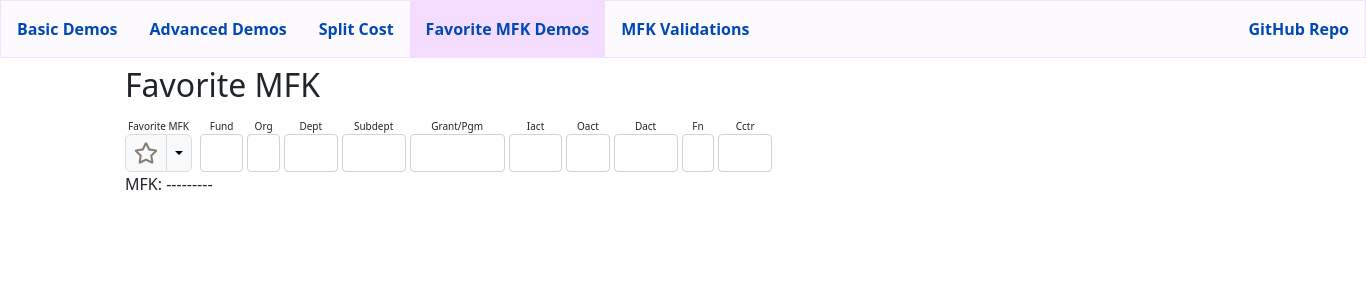
it: Favorite MFK Demos › should correctly select a favorite MFK from the dropdown list
What coordinates should you click on to do the following:
click the button with class "dropdown-toggle"
I would click on:
 (179, 153)
Its box is [166, 134, 192, 172].
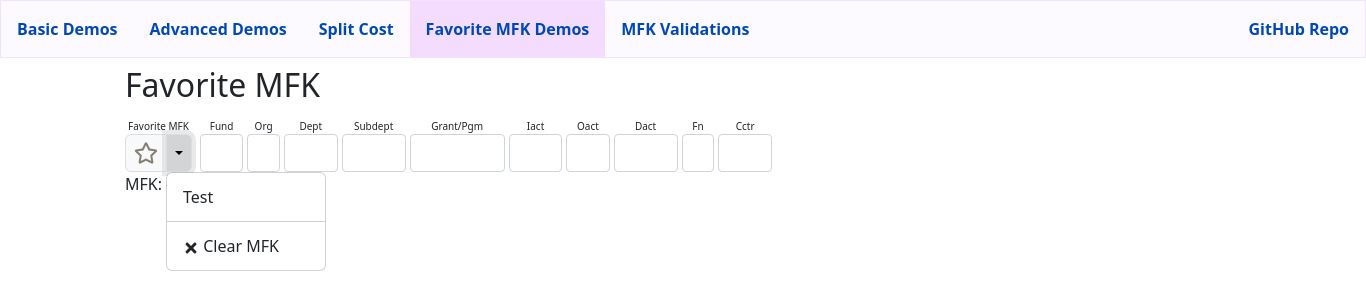
Expected: the list item "Test" is shown
What coordinates should you click on to do the following:
click the list item "Test"
I would click on:
 (198, 197)
Its box is [183, 186, 213, 208].
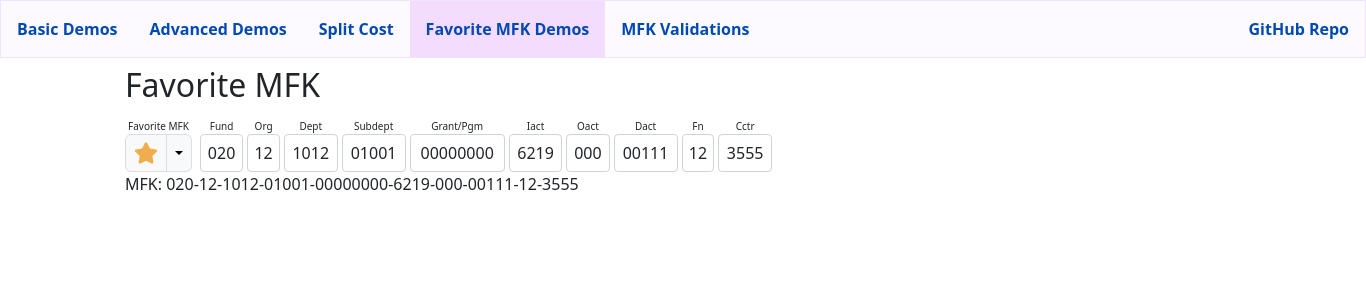
Expected: the element showing "020-12-1012-01001-00000000-6219-000-00111-12-3555" is shown, [166, 173, 579, 195]
Expected: the field labelled "Iact" holds "6219", [509, 134, 563, 172]
Expected: the field labelled "Cctr" holds "3555", [718, 134, 772, 172]
What coordinates should you click on to do the following:
click the button with class "dropdown-toggle"
I would click on:
 (179, 153)
Its box is [166, 134, 192, 172].
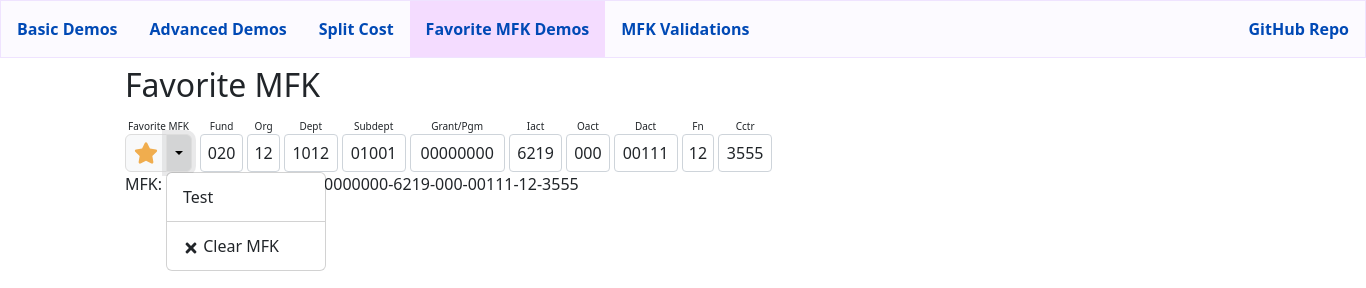
What coordinates should you click on to do the following:
click the list item "Clear MFK"
I would click on:
 (231, 246)
Its box is [183, 235, 279, 257].
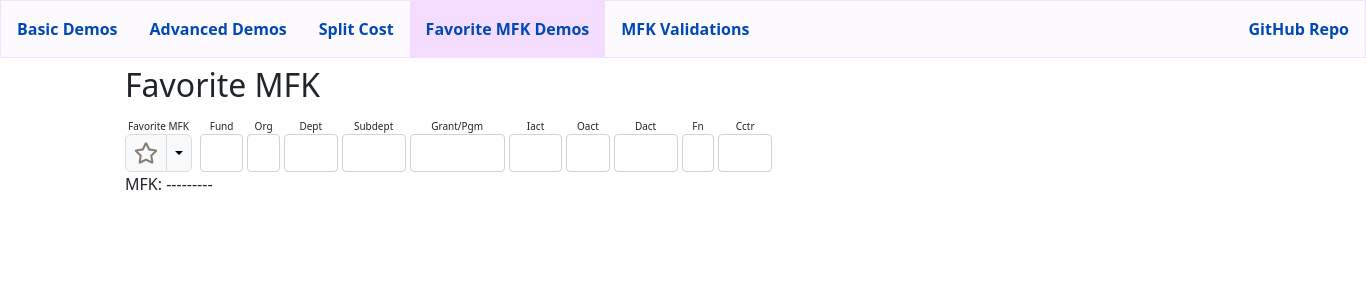
Expected: the element showing "---------" is shown, [166, 173, 213, 195]
